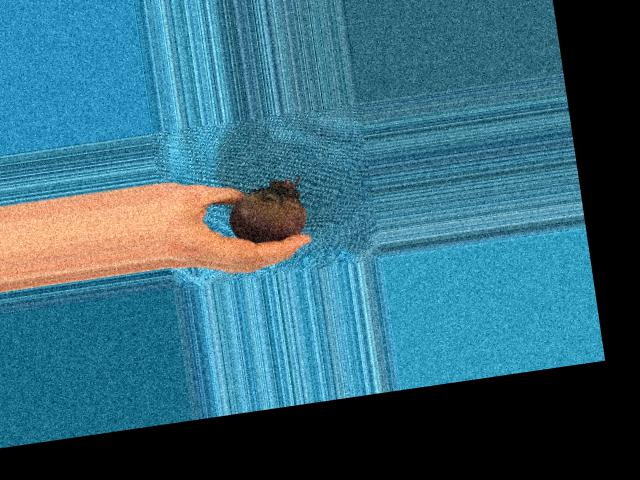beet: (225, 175, 309, 246)
